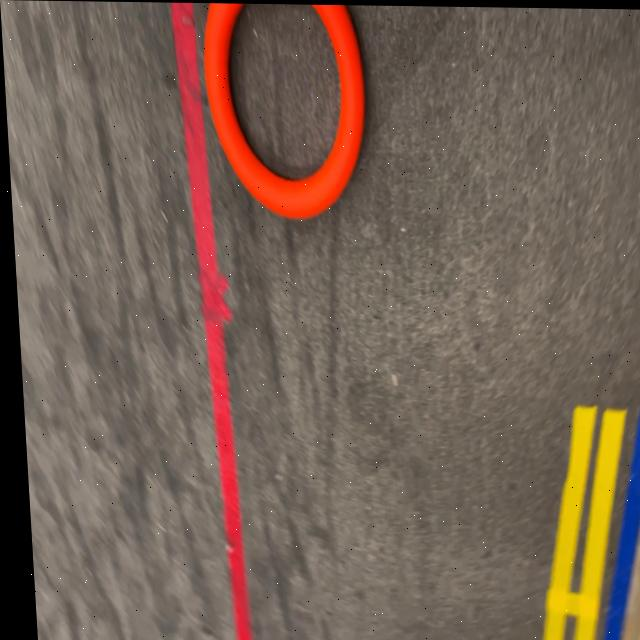note: (200, 3, 369, 214)
